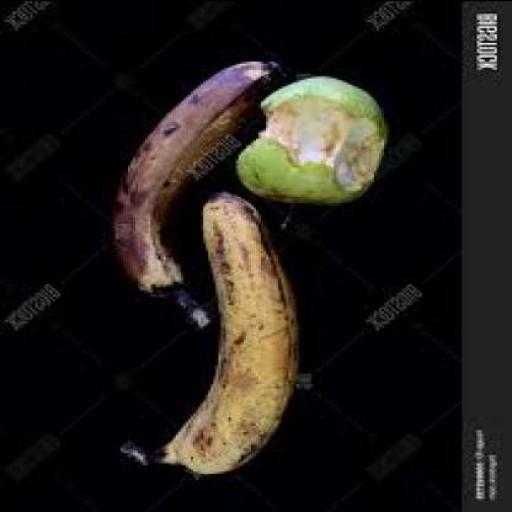biodegradable: (115, 184, 296, 472), (108, 54, 283, 326), (231, 68, 384, 225)
